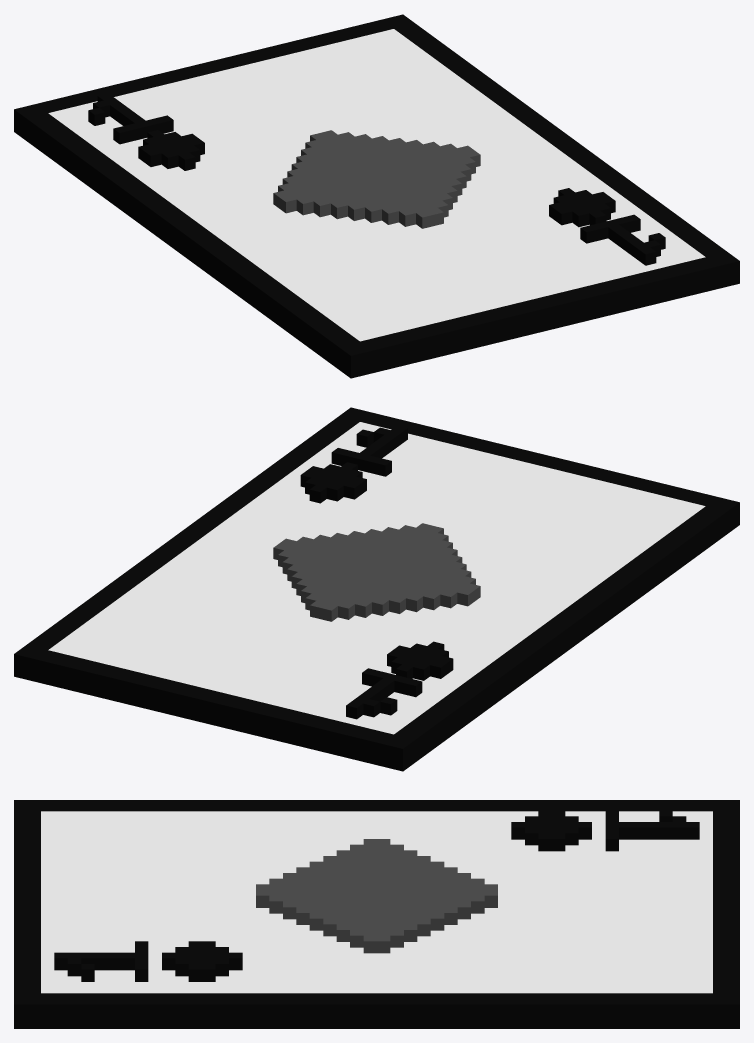
Rendered from Dia1.obj.
3 renders of one model, top to bottom at view 1: azimuth 30°, elevation 25°; view 2: azimuth 150°, elevation 25°; view 3: azimuth 270°, elevation 25°, orthographic. The views are drawn at different scales.
Bounding box in the file's own units: 36 × 3 × 54.
